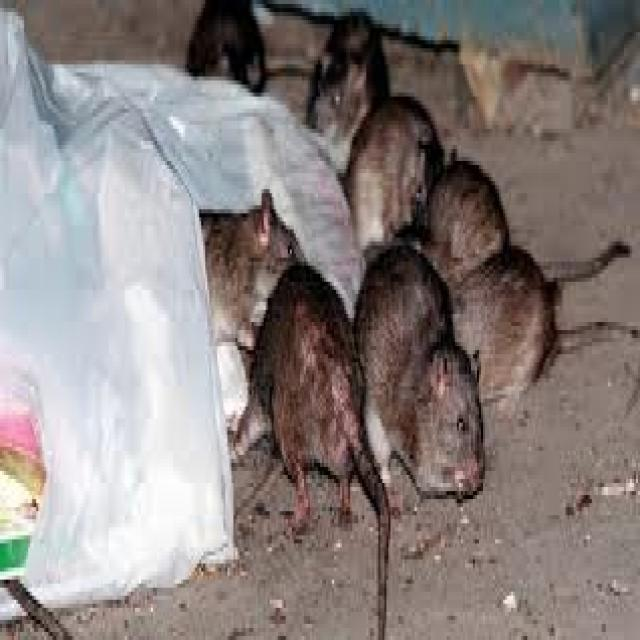rat: (235, 262, 390, 636), (356, 246, 485, 495), (451, 246, 640, 407), (203, 189, 304, 346), (344, 97, 445, 254), (308, 20, 390, 165), (423, 161, 509, 282), (187, 0, 268, 89)
